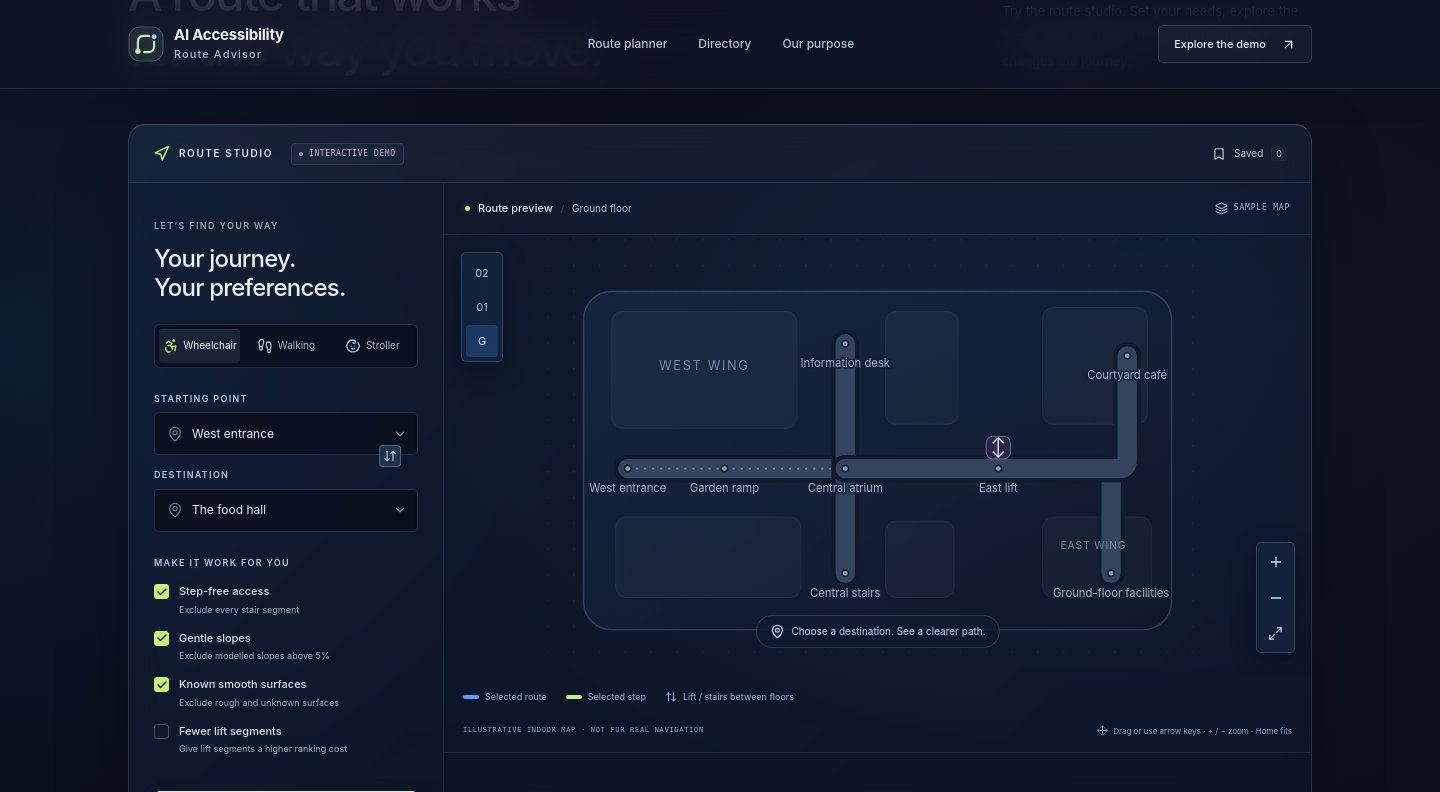
the complete project experience in a DOM test environment › checks identical endpoints and swaps start and destination
(page scrolled)
Step 1. Click the button named "Swap starting point and destination" → (390,456), box [379,445,401,467]
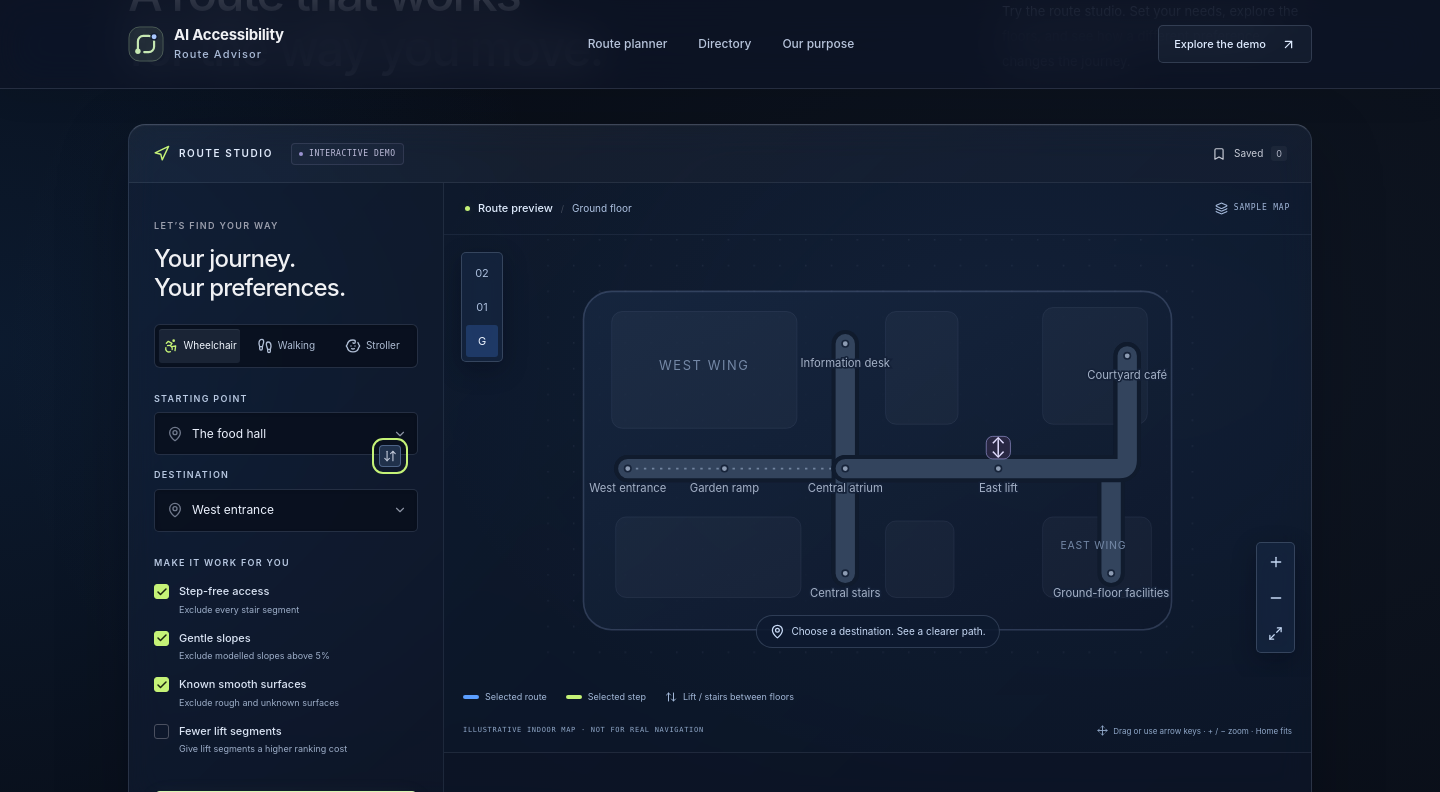
Expected: the dropdown labelled "STARTING POINT" shows "The food hall", [192,413,417,454]
Expected: the dropdown labelled "DESTINATION" shows "West entrance"
Step 2. Select "The food hall" in the dropdown labelled "DESTINATION" → (304,510), box [192,490,417,531]
(page scrolled)
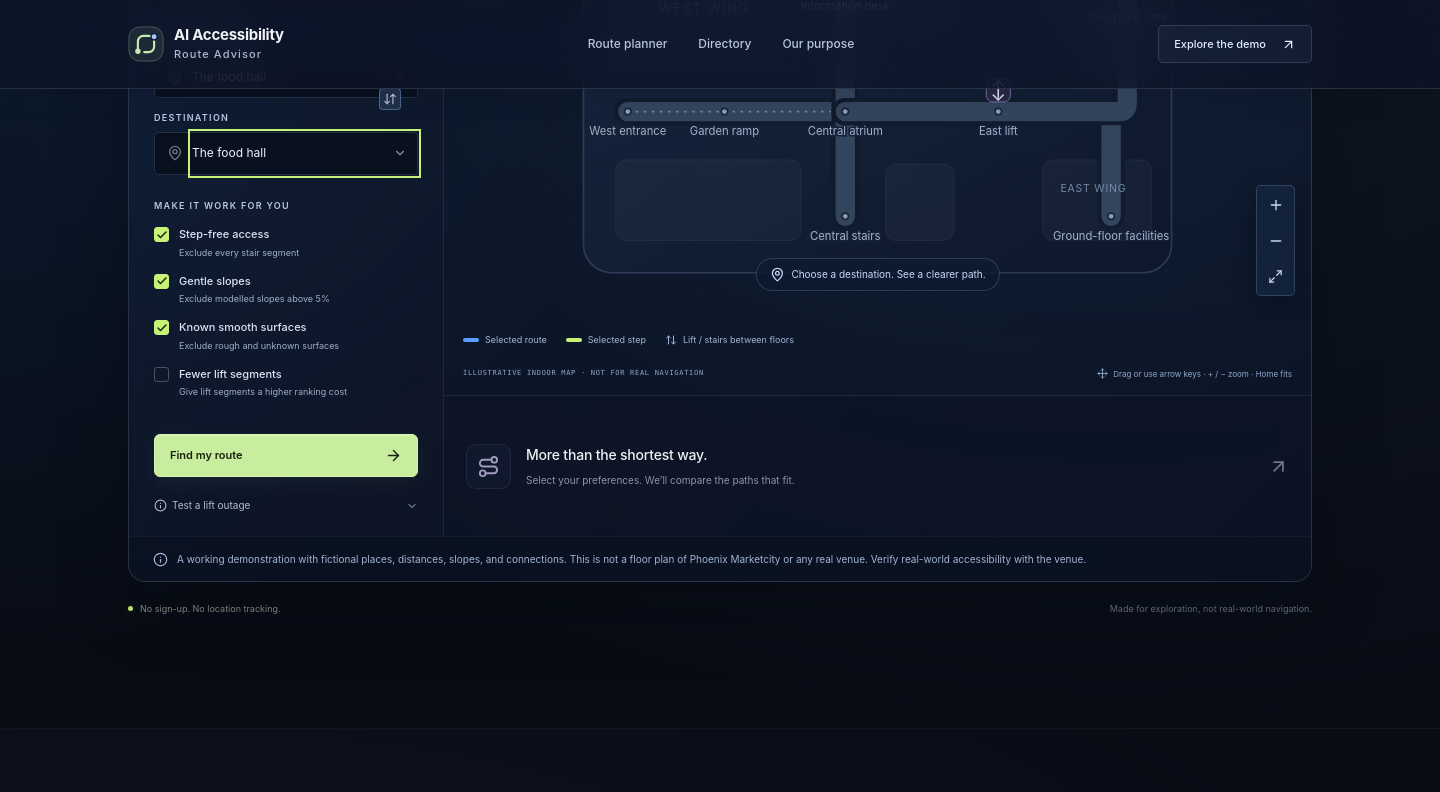
Step 3. Click the button "Find my route" → (206,455), box [154,434,418,477]
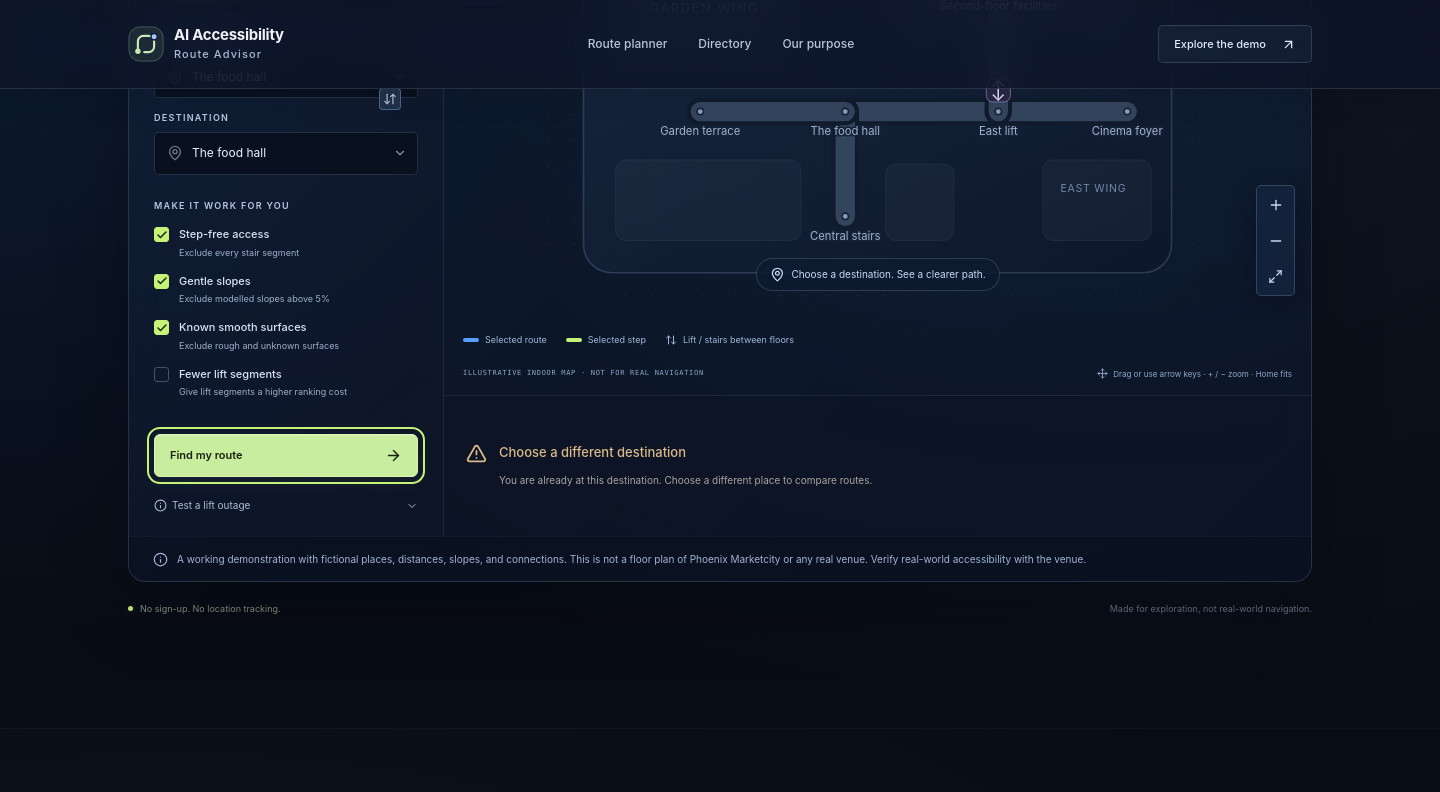
Expected: the heading "Choose a different destination" is shown, [499,444,686,460]
